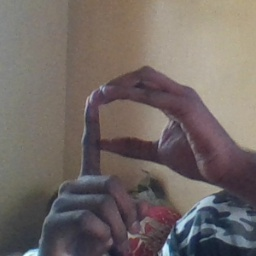P: (54, 63, 212, 226)
